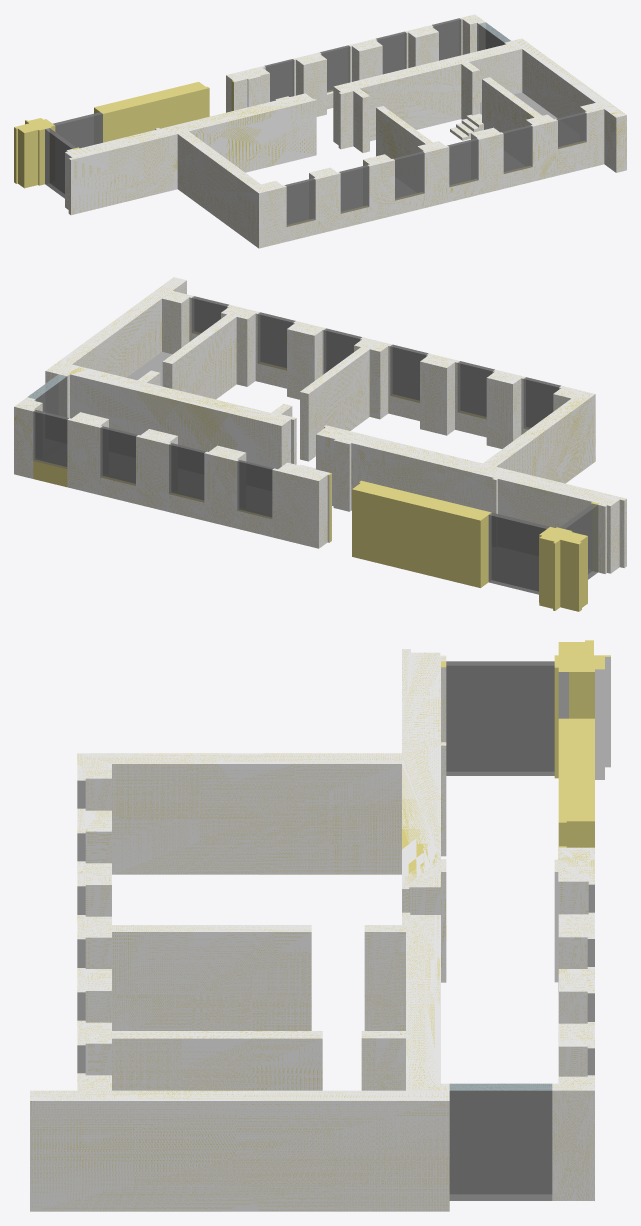
Rendered from gusshausstrasse25_collision.dae.
3 views of the same model, one above another, from view 1: azimuth 30°, elevation 25°; view 2: azimuth 150°, elevation 25°; view 3: azimuth 270°, elevation 25° (orthographic). The views are drawn at different scales.
Parts seen in each view (by area): view 1: SketchUp (×18); view 2: SketchUp (×19); view 3: SketchUp (×10).
Boxes of the visible parts, box(x1,y1,x2,y2) form: SketchUp (×18): box(14, 14, 626, 248); SketchUp (×19): box(14, 277, 626, 611); SketchUp (×10): box(30, 640, 610, 1211).
Bounding box in the file's own units: 1057 × 563 × 118.
